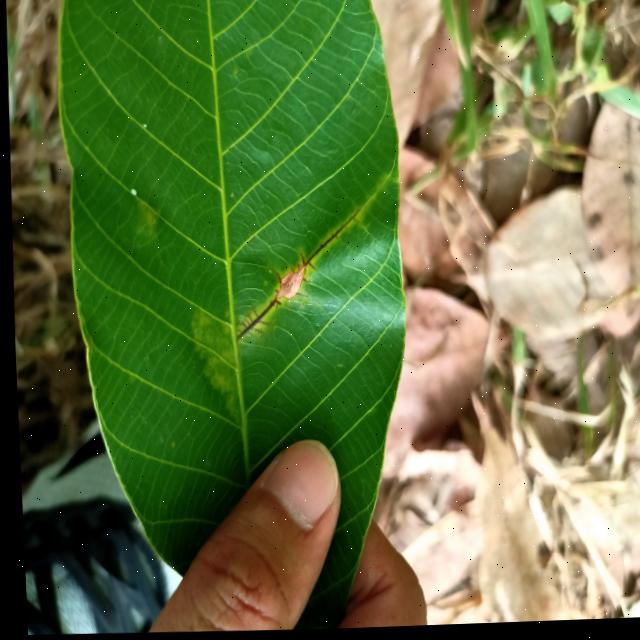Corynespora: (226, 209, 363, 349)
Leaf-Blight: (273, 265, 303, 300)
